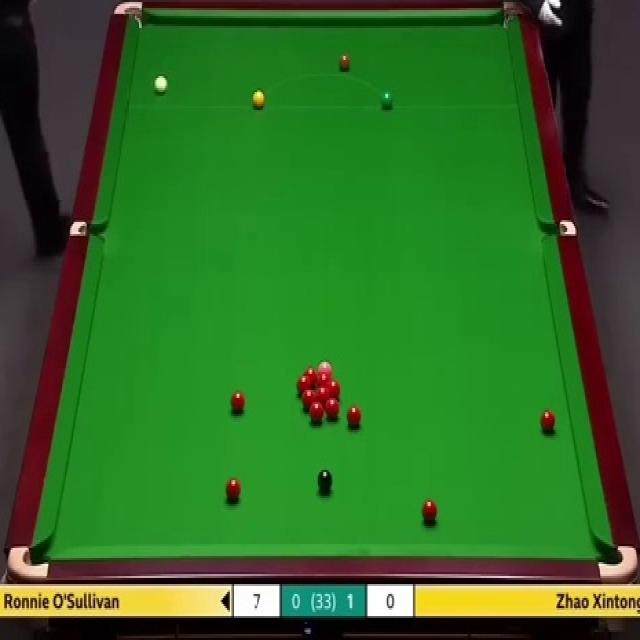pocket: (7, 543, 50, 582), (597, 542, 637, 583), (111, 0, 145, 34), (541, 218, 575, 237), (500, 6, 523, 32), (68, 222, 104, 236)
